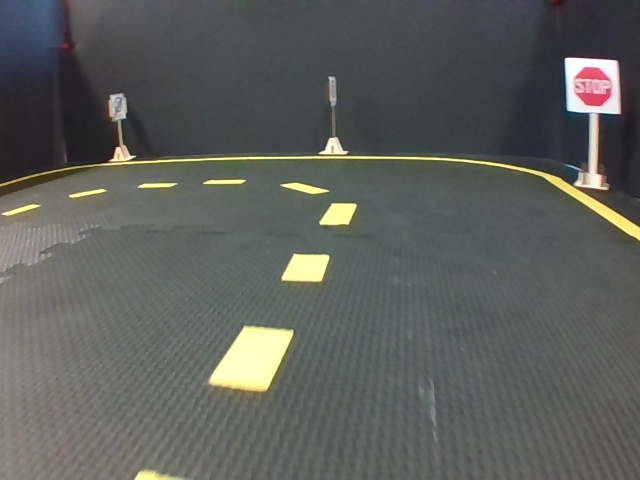30: (329, 78, 338, 105)
no30: (109, 93, 128, 120)
stop: (569, 57, 617, 113)
